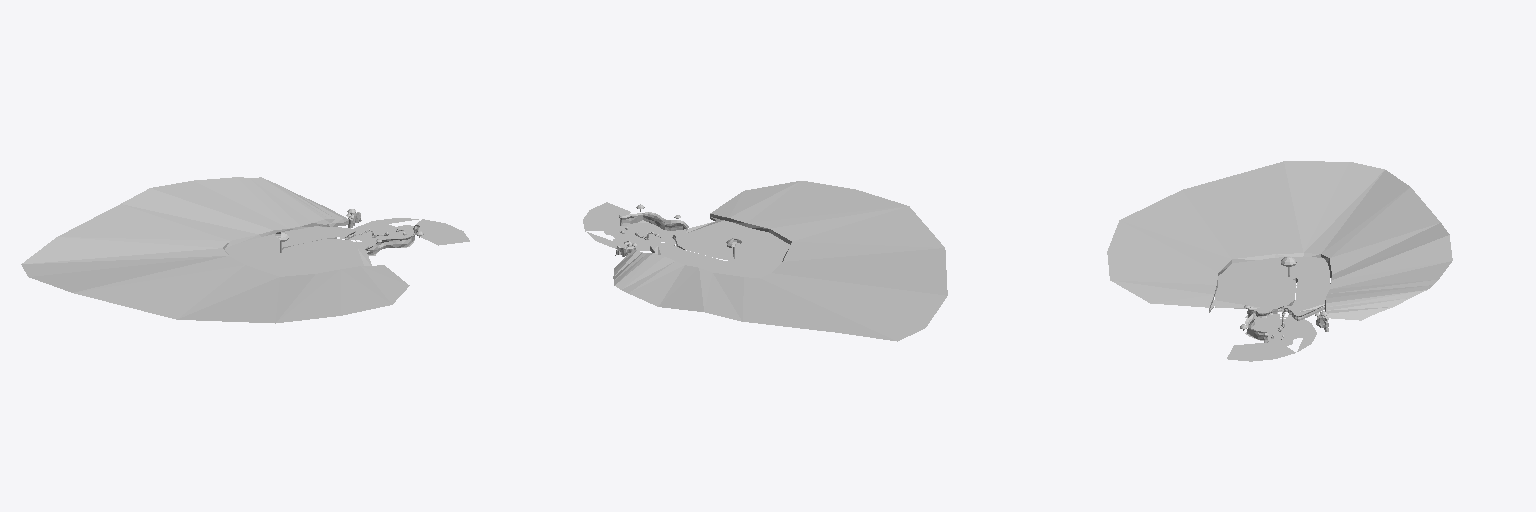
File: Lost Jungle 7.obj
3 renders of one model, left to right at view 1: azimuth 30°, elevation 25°; view 2: azimuth 150°, elevation 25°; view 3: azimuth 270°, elevation 25°, orthographic.
Parts seen in each view (by area): view 1: Object_2.001; view 2: Object_2.001; view 3: Object_2.001.
Boxes of the visible parts, <box> form: Object_2.001: <box>21,177,469,323</box>; Object_2.001: <box>583,181,947,341</box>; Object_2.001: <box>1107,161,1452,361</box>.
Bounding box in the file's own units: 84864 × 5586 × 65885.